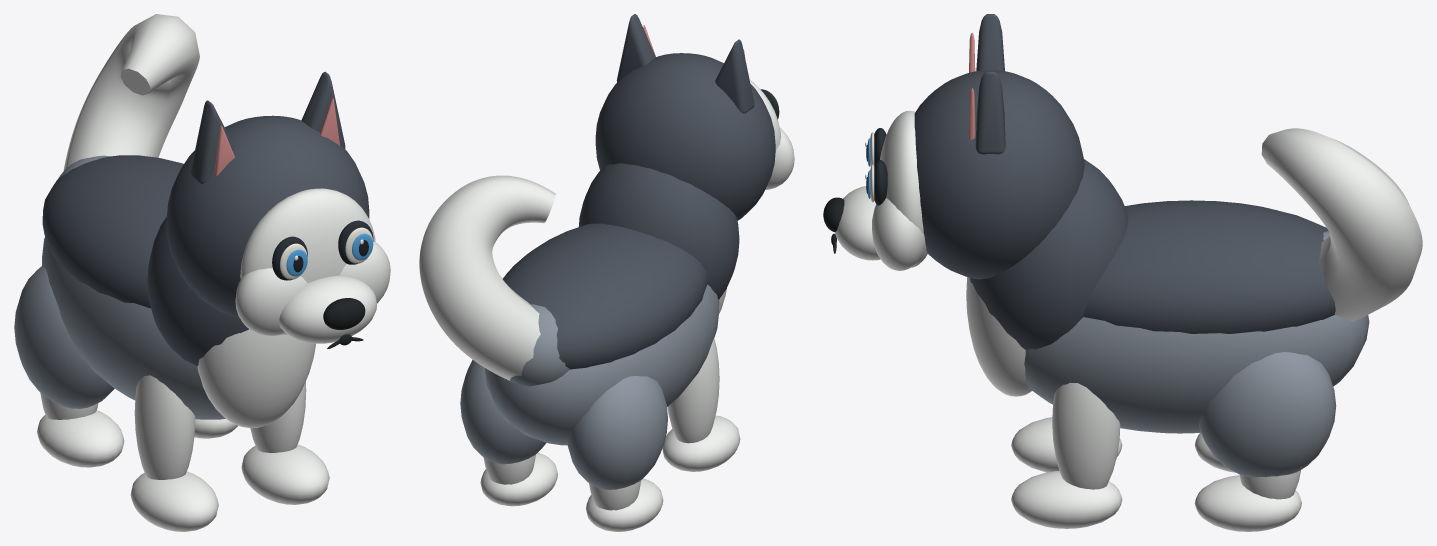
File: Mush_Husky_Prototype.fbx
3 views of the same model, side by side, from view 1: azimuth 30°, elevation 25°; view 2: azimuth 150°, elevation 25°; view 3: azimuth 270°, elevation 25° (orthographic). The views are drawn at different scales.
Visible parts, largest first — view 1: Husky_Head, Husky_BackSaddle, Husky_Tail, Husky_Body, Husky_Chest, Husky_RearThigh_L, Husky_FacePlate, Husky_Neck, Husky_FrontLeg_L, Husky_FrontPaw_R, Husky_FrontPaw_L, Husky_Muzzle (+13 smaller); view 2: Husky_BackSaddle, Husky_Head, Husky_Tail, Husky_Body, Husky_Neck, Husky_RearThigh_L, Husky_RearThigh_R, Husky_FrontLeg_L, Husky_FrontPaw_L, Husky_TailBase, Husky_RearPaw_R, Husky_RearPaw_L (+5 smaller); view 3: Husky_BackSaddle, Husky_Head, Husky_Body, Husky_Tail, Husky_Neck, Husky_RearThigh_R, Husky_FrontLeg_R, Husky_FrontPaw_R, Husky_RearPaw_R, Husky_Chest, Husky_FacePlate, Husky_Cheek_R (+5 smaller).
Boxes of the visible parts, bbox=[...] form: Husky_Head: bbox=[166, 115, 369, 318]; Husky_BackSaddle: bbox=[42, 155, 183, 308]; Husky_Tail: bbox=[63, 14, 199, 171]; Husky_Body: bbox=[42, 236, 225, 419]; Husky_Chest: bbox=[197, 329, 315, 428]; Husky_RearThigh_L: bbox=[14, 266, 114, 408]; Husky_FacePlate: bbox=[240, 188, 375, 335]; Husky_Neck: bbox=[147, 216, 248, 366]; Husky_FrontLeg_L: bbox=[134, 375, 195, 479]; Husky_FrontPaw_R: bbox=[241, 444, 329, 504]; Husky_FrontPaw_L: bbox=[130, 471, 218, 531]; Husky_Muzzle: bbox=[279, 275, 376, 343]; Husky_BackSaddle: bbox=[503, 223, 707, 369]; Husky_Head: bbox=[595, 53, 775, 220]; Husky_Tail: bbox=[419, 175, 555, 380]; Husky_Body: bbox=[485, 284, 719, 445]; Husky_Neck: bbox=[578, 163, 739, 299]; Husky_RearThigh_L: bbox=[567, 376, 667, 489]; Husky_RearThigh_R: bbox=[460, 360, 546, 464]; Husky_FrontLeg_L: bbox=[667, 338, 719, 443]; Husky_FrontPaw_L: bbox=[662, 415, 740, 471]; Husky_TailBase: bbox=[510, 304, 569, 386]; Husky_RearPaw_R: bbox=[480, 452, 557, 506]; Husky_RearPaw_L: bbox=[586, 478, 663, 531]; Husky_BackSaddle: bbox=[1083, 200, 1335, 333]; Husky_Head: bbox=[914, 70, 1084, 279]; Husky_Body: bbox=[1024, 315, 1369, 433]; Husky_Tail: bbox=[1261, 128, 1422, 321]; Husky_Neck: bbox=[970, 159, 1128, 349]; Husky_RearThigh_R: bbox=[1199, 352, 1336, 477]; Husky_FrontLeg_R: bbox=[1052, 382, 1120, 489]; Husky_FrontPaw_R: bbox=[1011, 471, 1122, 528]; Husky_RearPaw_R: bbox=[1194, 475, 1301, 531]; Husky_Chest: bbox=[966, 277, 1031, 396]; Husky_FacePlate: bbox=[880, 110, 927, 267]; Husky_Cheek_R: bbox=[872, 198, 925, 270].
Size of the model in its own units: 127 by 257 by 307.
